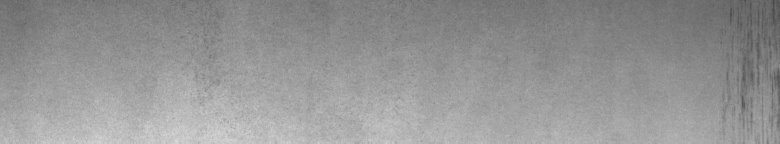ka: (724, 4, 776, 120)
